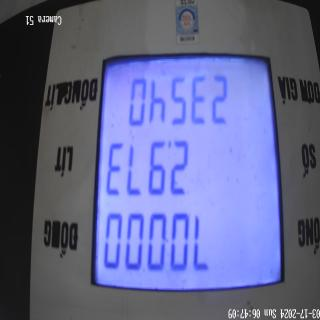screen: (88, 41, 293, 304)
